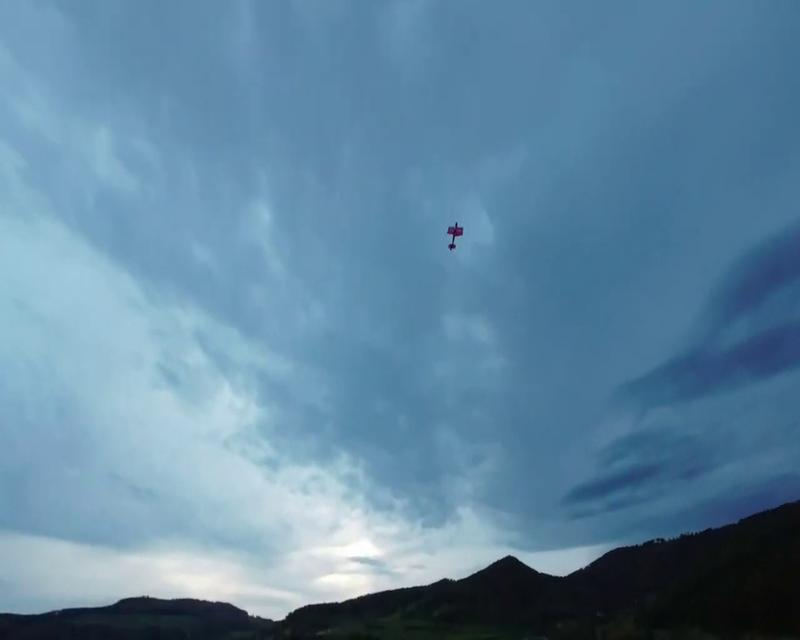UAV: (446, 222, 464, 251)
